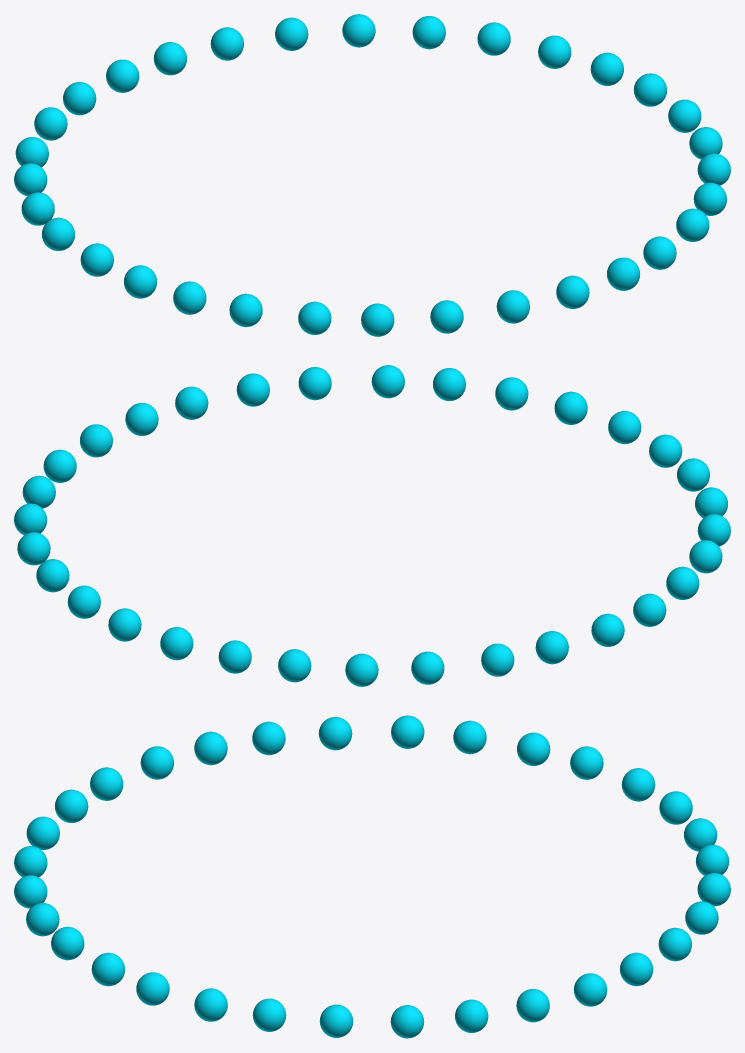
3 renders of one model, top to bottom at view 1: azimuth 30°, elevation 25°; view 2: azimuth 150°, elevation 25°; view 3: azimuth 270°, elevation 25°, orthographic.
Parts seen in each view (by area): view 1: Sphere050; view 2: Sphere050; view 3: Sphere050.
Boxes of the visible parts, x1,y1,x2,y2 form: Sphere050: (14, 14, 730, 336); Sphere050: (14, 365, 730, 686); Sphere050: (14, 715, 730, 1038).
Size of the model in its own units: 176 by 8.22 by 176.
